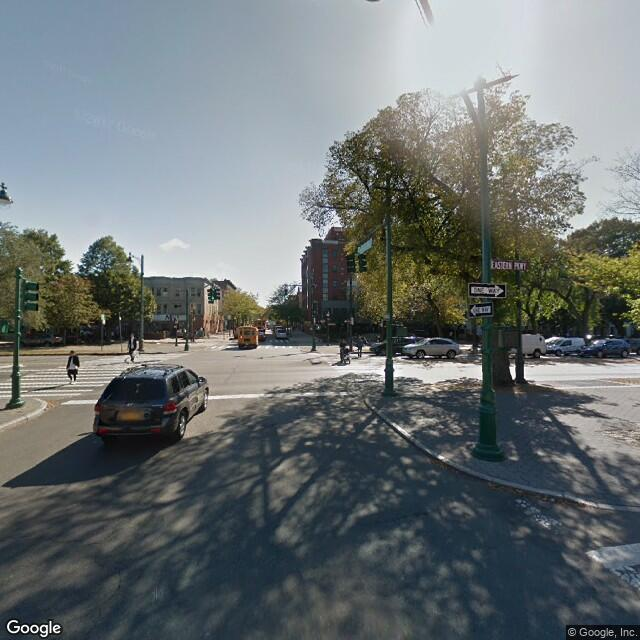litter: (155, 341, 159, 343)
